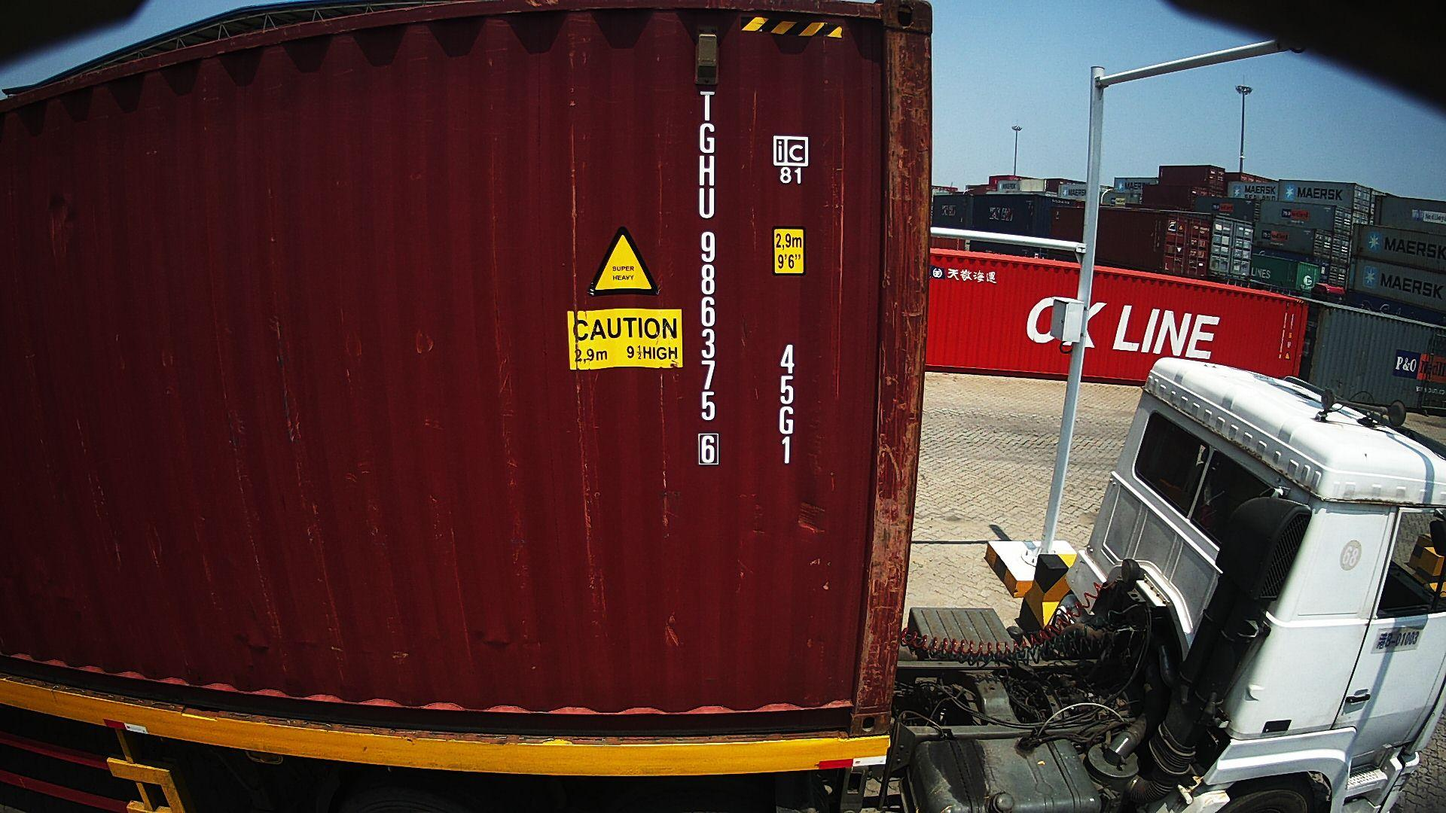container-numbers: (691, 87, 722, 473), (775, 340, 800, 470)
